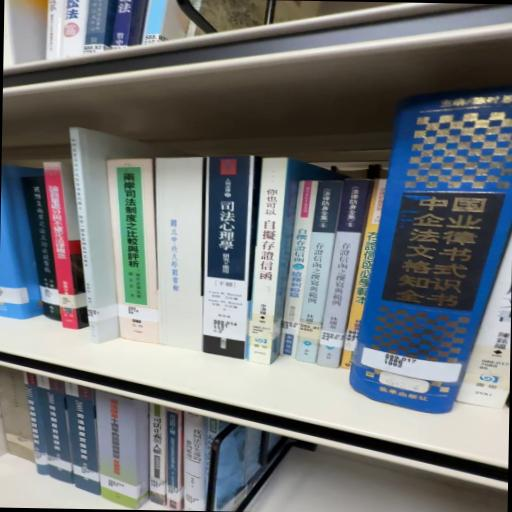backward: (156, 155, 211, 355)
book: (70, 135, 134, 342), (203, 155, 257, 362), (319, 181, 373, 368)
